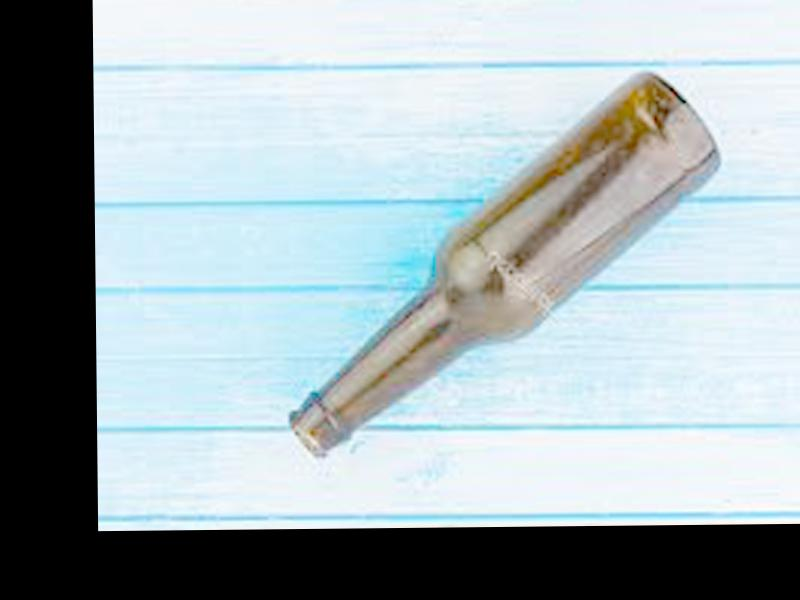Beer: (288, 64, 724, 459)
